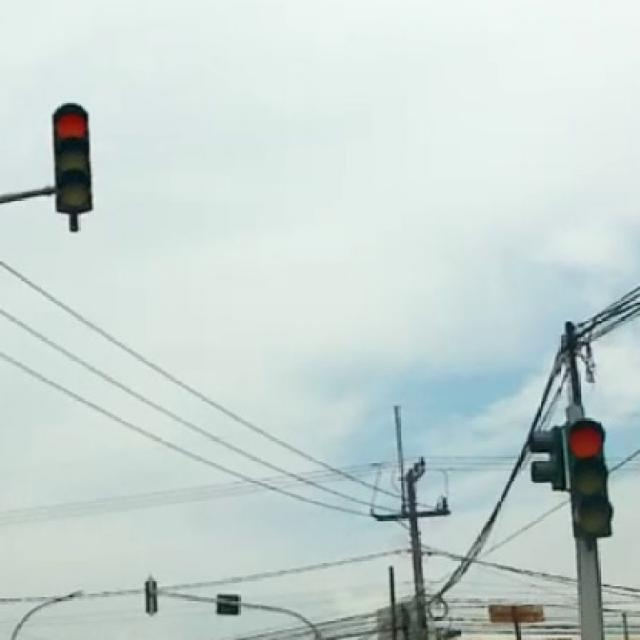red light: (564, 415, 614, 537), (52, 104, 92, 218)
